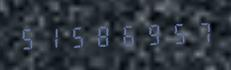eight: (89, 20, 112, 50)
five: (17, 23, 40, 52), (65, 21, 88, 50), (161, 18, 184, 47)
nine: (137, 19, 160, 48)
one: (41, 22, 64, 51)
seven: (185, 17, 208, 46)
six: (113, 20, 136, 49)
